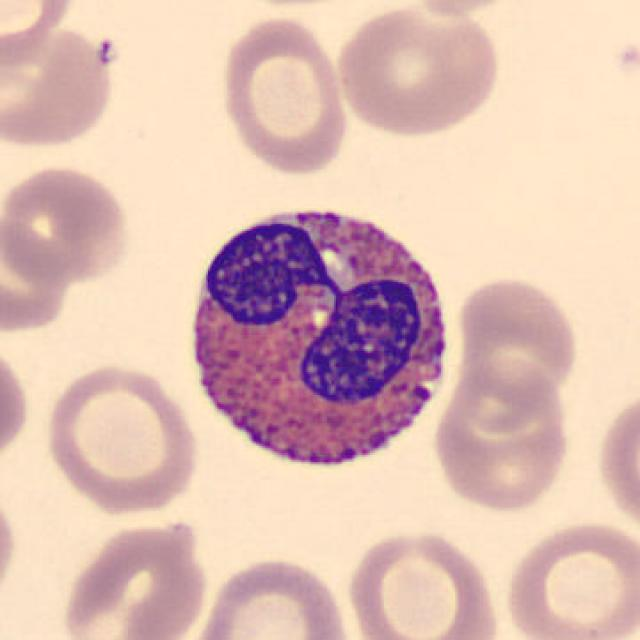Eosinophil: (172, 185, 462, 490)
RBC: (41, 360, 201, 518), (331, 2, 505, 139), (428, 358, 574, 516), (215, 12, 352, 178), (56, 516, 211, 640), (341, 525, 503, 640), (452, 271, 582, 411), (499, 516, 638, 640), (0, 160, 133, 287), (0, 17, 121, 152), (184, 553, 355, 640), (0, 206, 78, 337), (594, 383, 638, 543), (0, 0, 78, 74), (0, 338, 32, 474), (0, 479, 21, 615), (402, 0, 532, 18)
